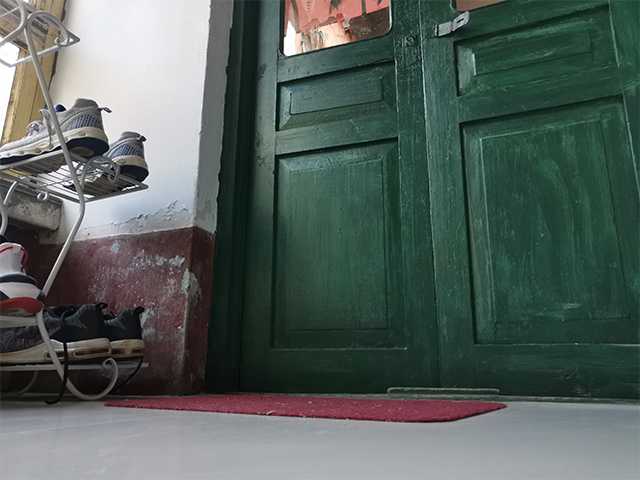carpet: (101, 391, 509, 424)
